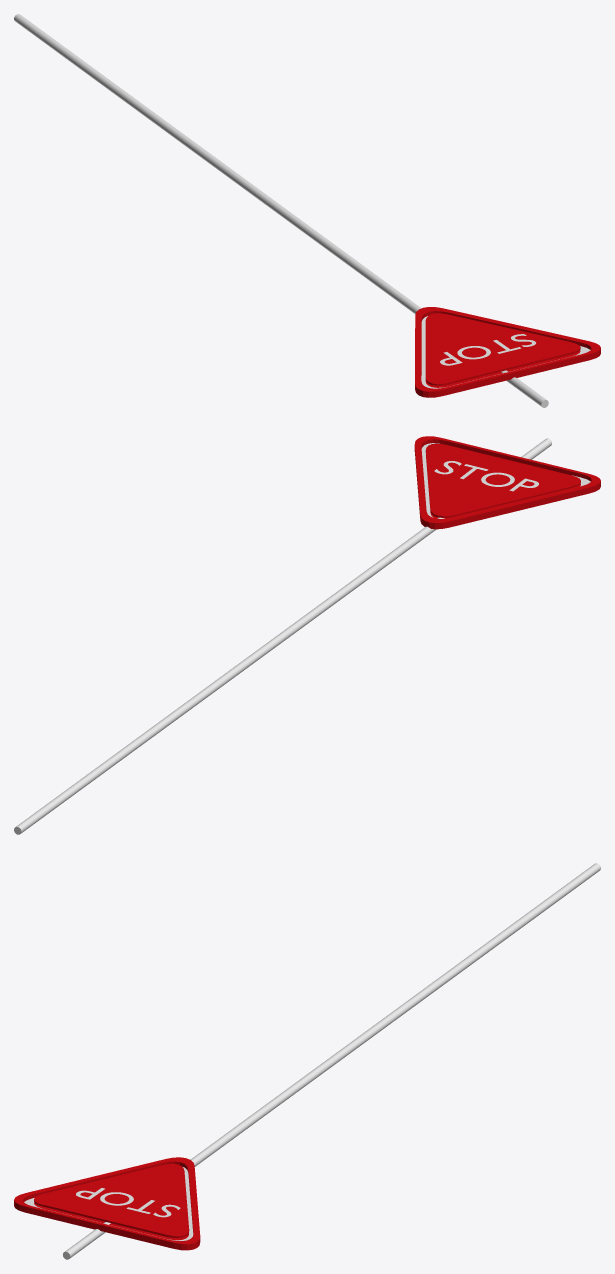
The model's file is stop_marker.fbx.
3 views of the same model, one above another, from view 1: azimuth 30°, elevation 25°; view 2: azimuth 150°, elevation 25°; view 3: azimuth 330°, elevation 25° (orthographic).
Visible parts, largest first — view 1: 平面, 円柱, テキスト; view 2: 平面, 円柱, テキスト; view 3: 平面, 円柱, テキスト.
Boxes of the visible parts, bbox=[...] form: 平面: bbox=[415, 307, 600, 397]; 円柱: bbox=[14, 14, 548, 407]; テキスト: bbox=[440, 334, 535, 365]; 平面: bbox=[414, 436, 600, 529]; 円柱: bbox=[14, 438, 551, 834]; テキスト: bbox=[434, 461, 538, 491]; 平面: bbox=[14, 1157, 200, 1250]; 円柱: bbox=[63, 863, 600, 1259]; テキスト: bbox=[76, 1188, 180, 1217].
Size of the model in its own units: 214 by 15.54 by 1082.
